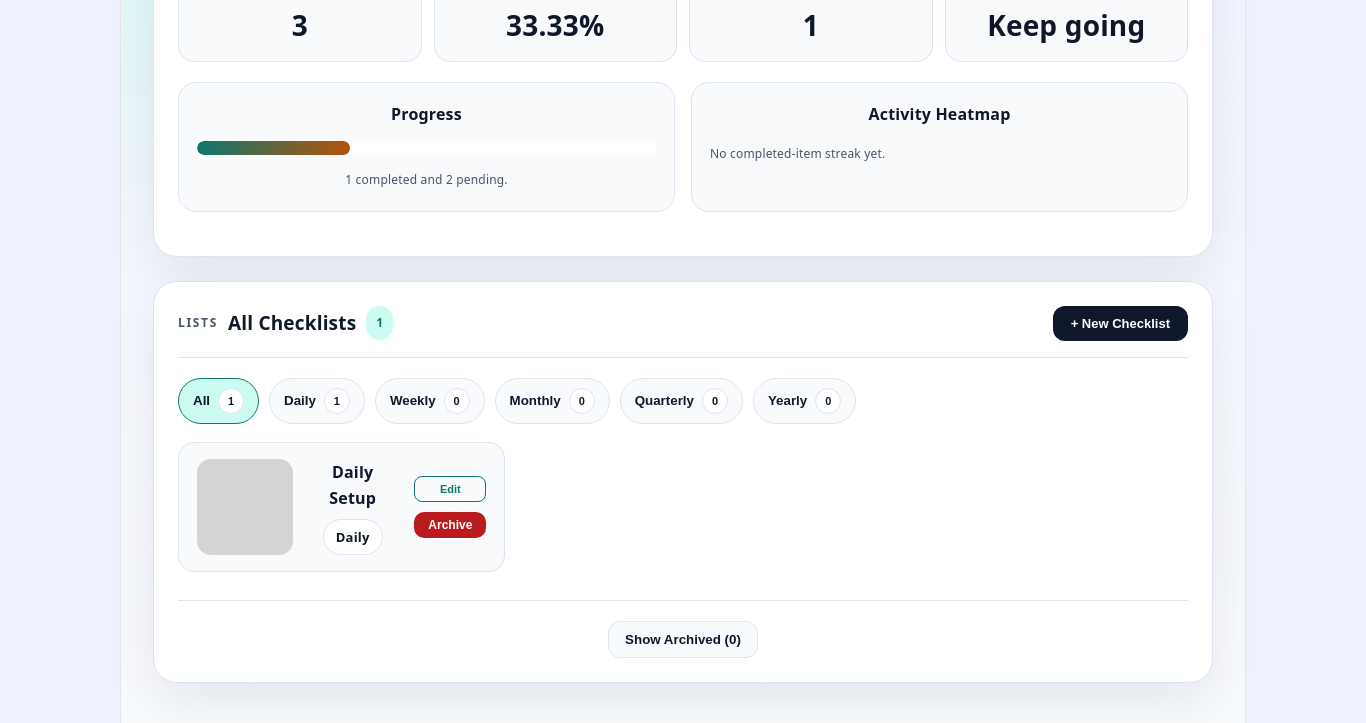
Test case: Dashboard › shows update item failure errors
(page scrolled)
Click the text "Daily Setup": (353, 485) [329,461,376,509]
(page scrolled)
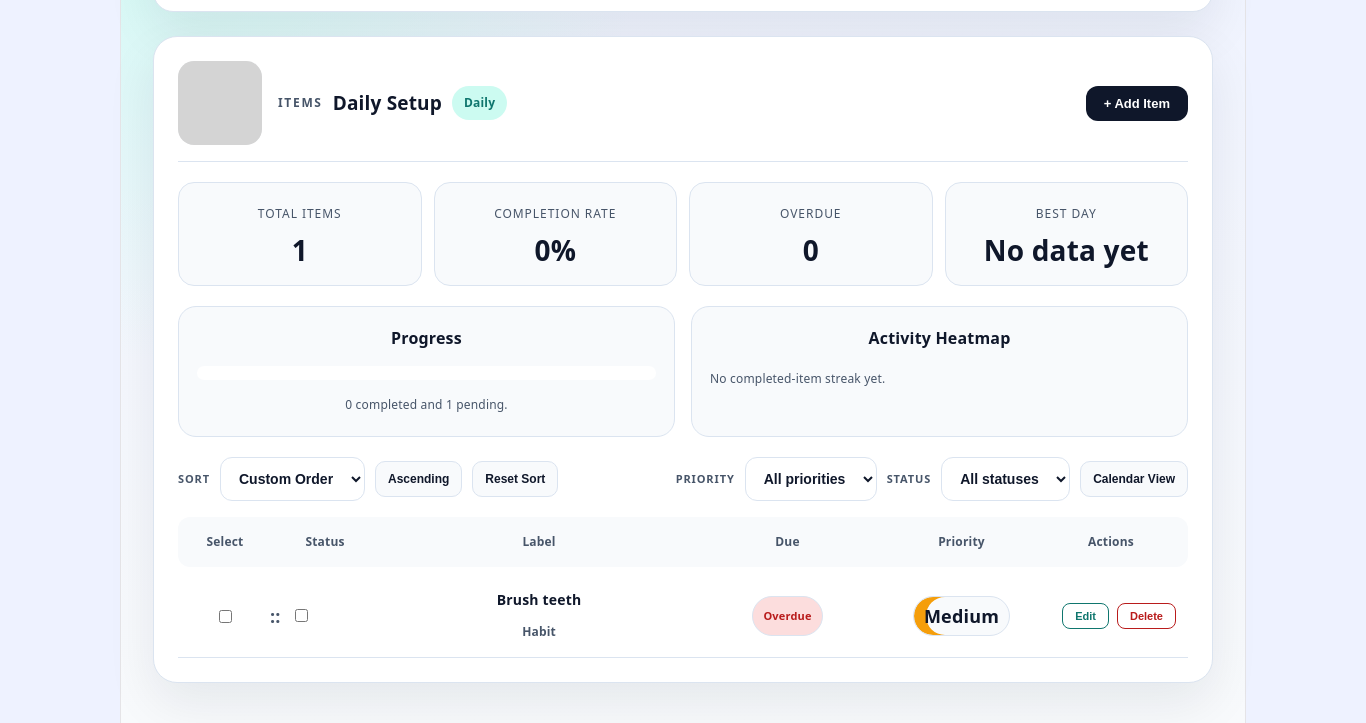
Expected: the text "Brush teeth" is shown, [497,590,581,609]
Click the button "Edit": (1086, 616) [1062,603,1109,629]
(page scrolled)
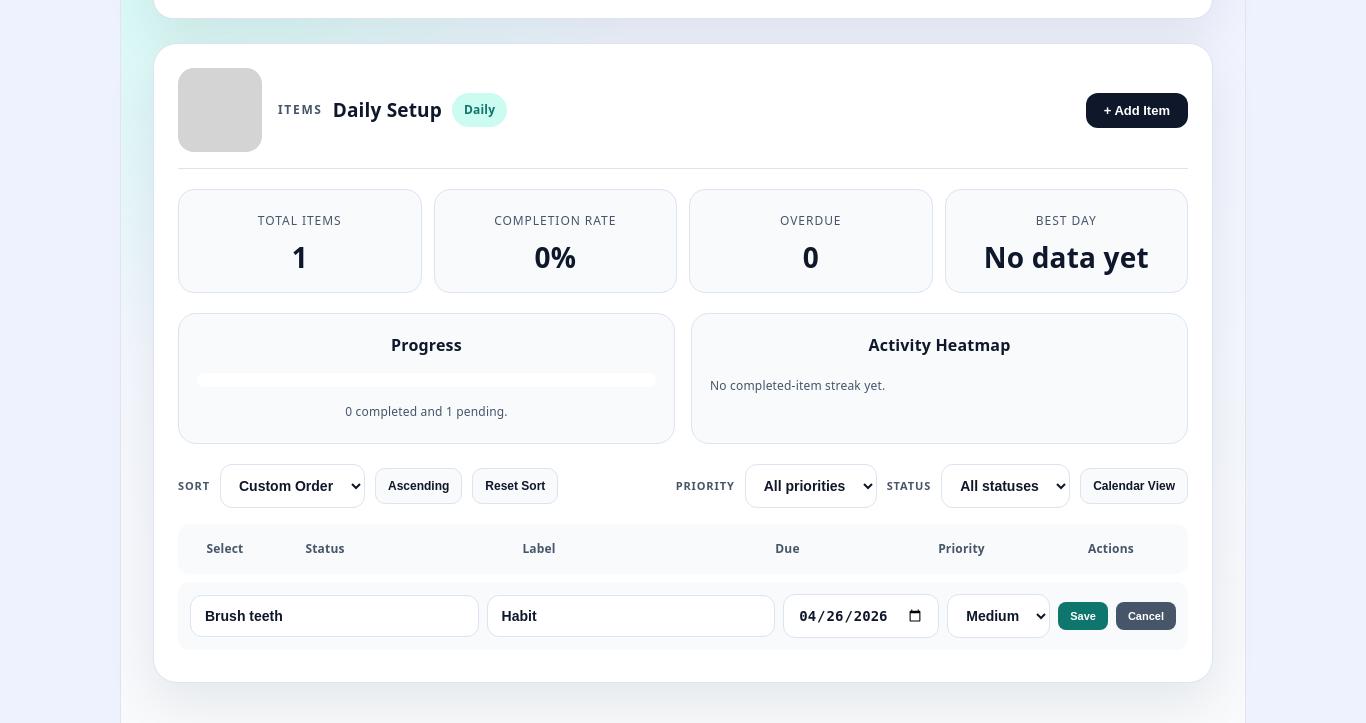
Click the button "Save": (1083, 616) [1058,602,1108,630]
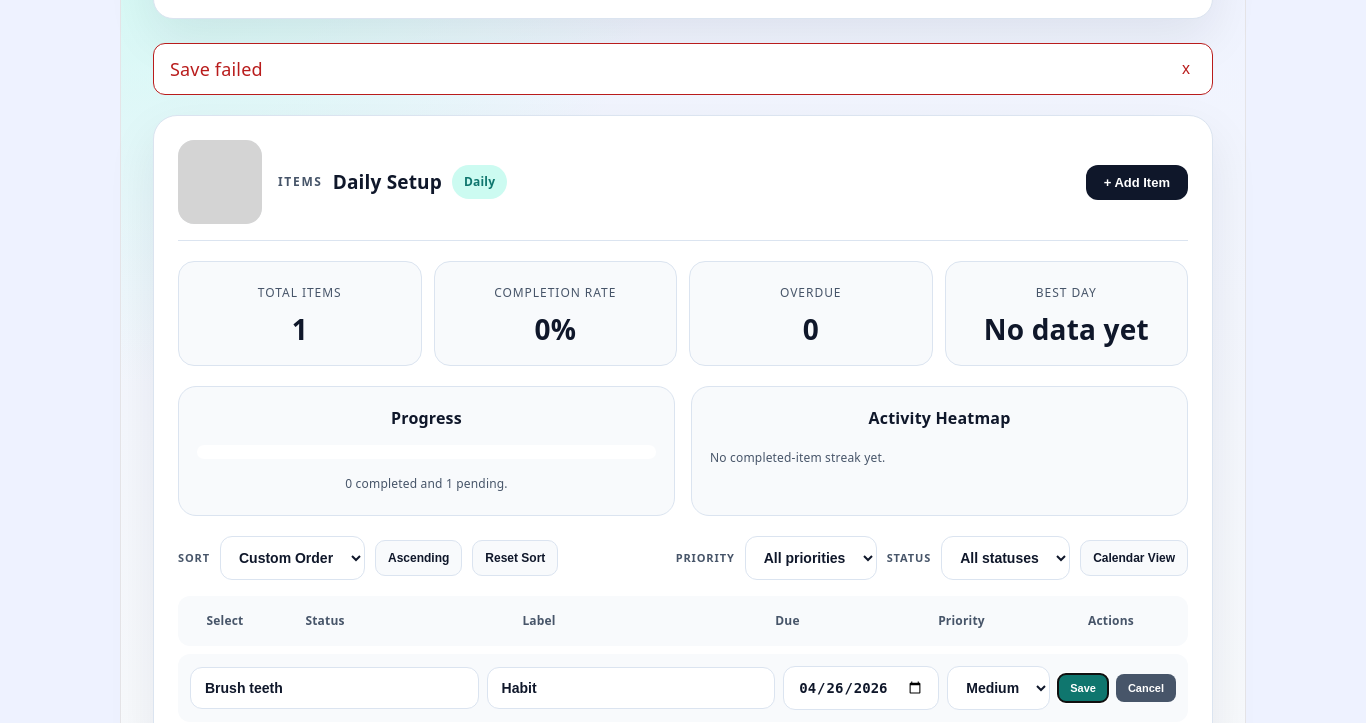
Expected: the text "Save failed" is shown, [170,57,263,81]
